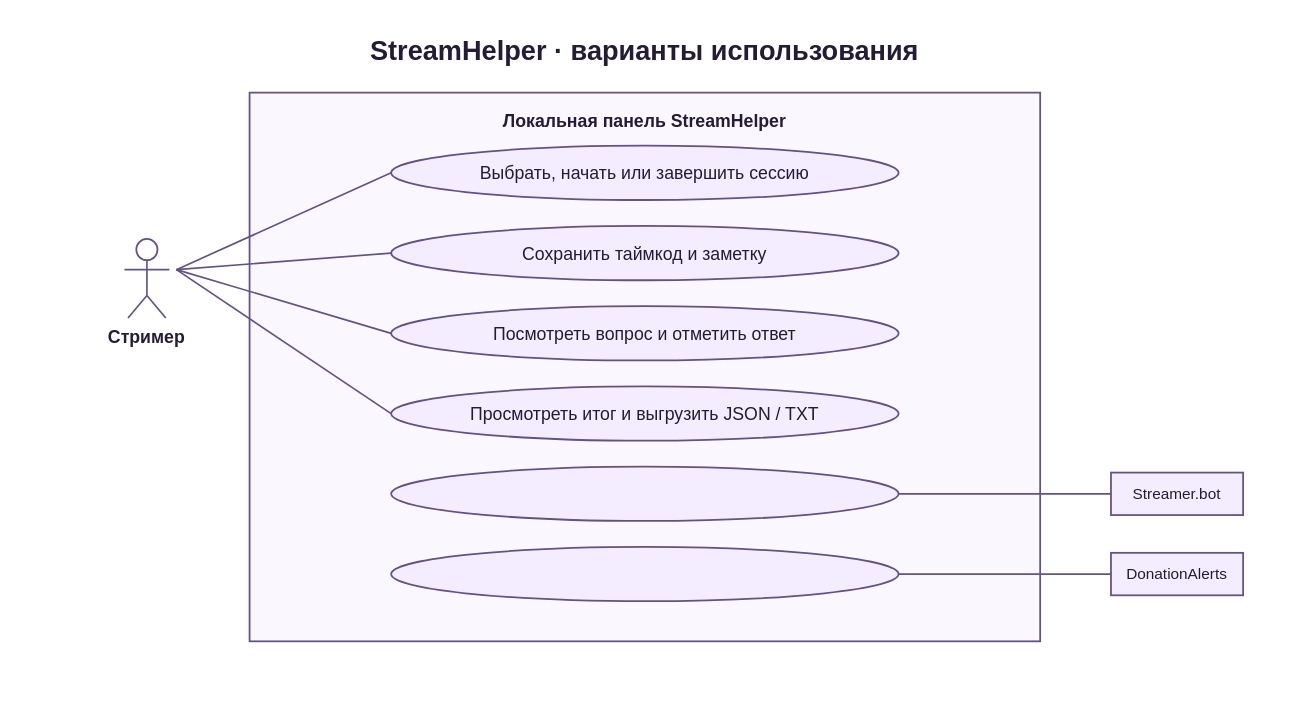
Image size: 1290x717. Some labels were removed from this diagram. The centre of each missing label's shape, as x and y in pixels:
"Авторизоваться и загрузить историю донатов" goes at point 644,574.
"Получить события эфира и чата" goes at point 644,493.
